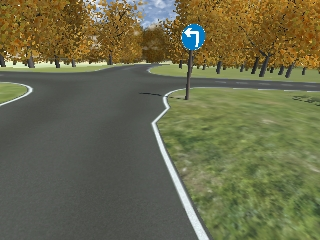left: (182, 26, 206, 51)
